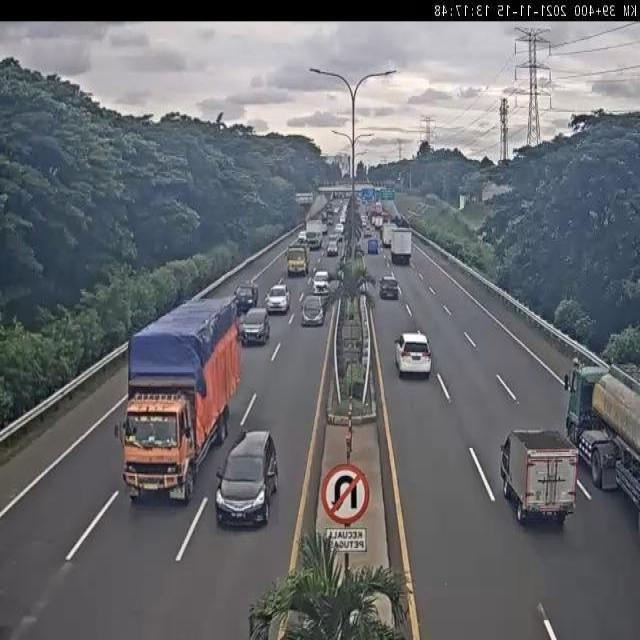Car: (215, 418, 279, 530), (386, 330, 438, 380), (238, 306, 272, 346), (300, 295, 326, 327), (265, 285, 290, 315), (378, 275, 399, 300), (312, 270, 331, 294), (336, 200, 348, 228), (327, 238, 339, 256), (360, 213, 369, 232), (354, 245, 364, 258), (332, 204, 342, 217), (334, 192, 347, 200), (321, 222, 329, 234)
Truck: (117, 297, 241, 503), (566, 363, 640, 531), (499, 429, 580, 526), (390, 228, 412, 265), (286, 244, 310, 276), (304, 222, 324, 251), (382, 224, 394, 249), (373, 216, 383, 231), (379, 211, 389, 224), (375, 201, 382, 214)
